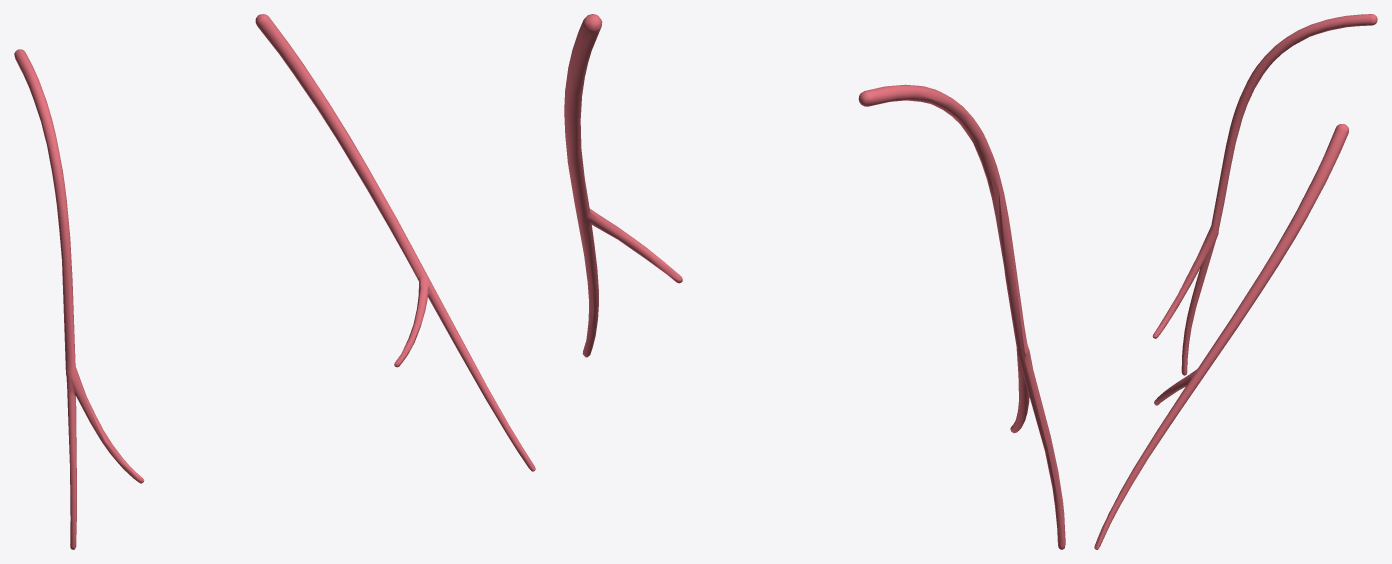
The model's file is fma4747_fj5221.glb.
3 renders of one model, left to right at view 1: azimuth 30°, elevation 25°; view 2: azimuth 150°, elevation 25°; view 3: azimuth 270°, elevation 25°, orthographic. The views are drawn at different scales.
Parts seen in each view (by area): view 1: FMA4747_FJ5221; view 2: FMA4747_FJ5221; view 3: FMA4747_FJ5221.
Boxes of the visible parts, x1,y1,x2,y2 form: FMA4747_FJ5221: (14,14,535,549); FMA4747_FJ5221: (564,14,1065,549); FMA4747_FJ5221: (1094,14,1377,549).
Size of the model in its own units: 0.0375 by 0.0355 by 0.0238.
